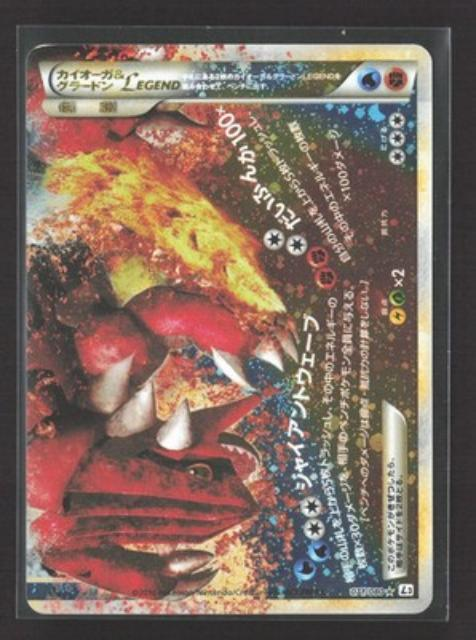Card: (21, 39, 438, 617)
Name: (50, 61, 185, 97)
